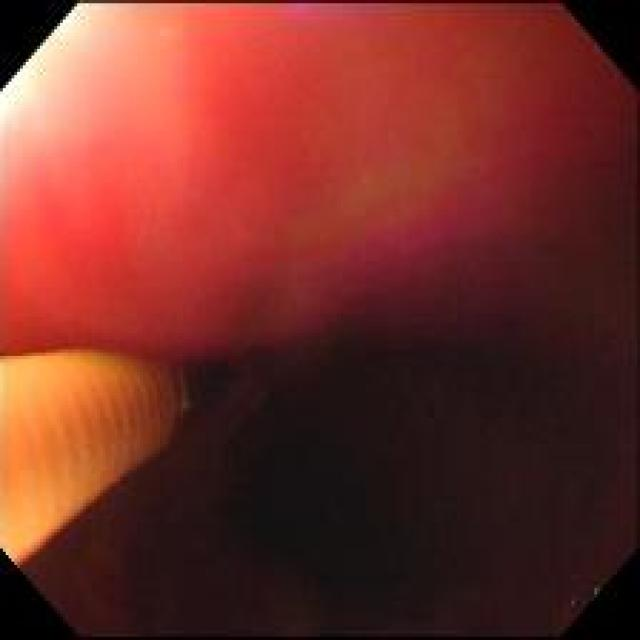contrast: (192, 313, 633, 631)
instrument: (2, 350, 191, 568)
saturation: (2, 5, 106, 132)
